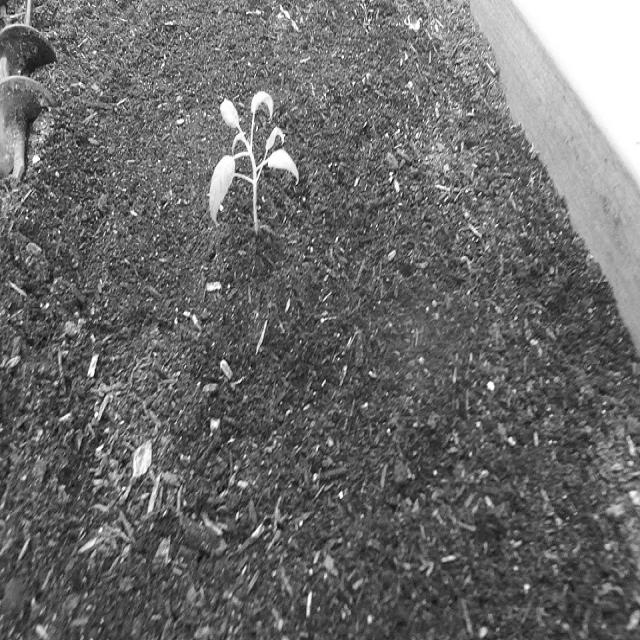Healthy: (199, 84, 302, 241)
